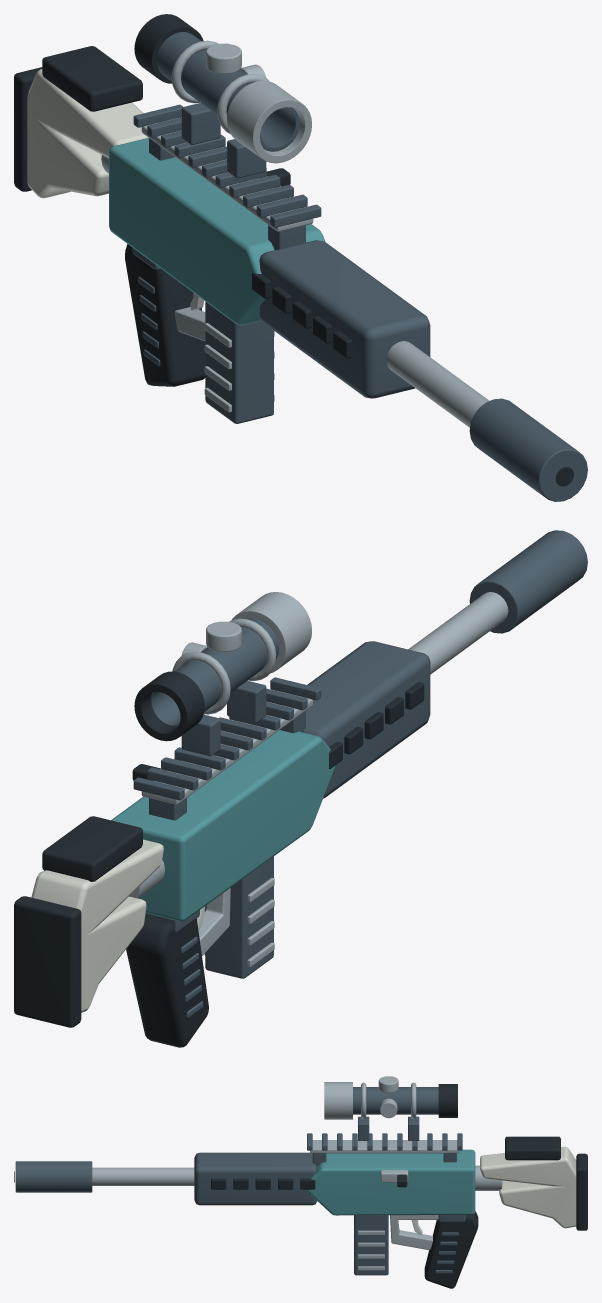
Rendered from weapon_06.glb.
3 renders of one model, top to bottom at view 1: azimuth 30°, elevation 25°; view 2: azimuth 150°, elevation 25°; view 3: azimuth 270°, elevation 25°, orthographic. The views are drawn at different scales.
Visible parts, largest first — view 1: receiver / Cerakote midnight, receiver / Teal armour, receiver / Ceramic, receiver / Elastomer, weapon_06 / Cerakote midnight, weapon_06 / Titanium, pistol_grip / Elastomer, magazine / Cerakote midnight, receiver / Titanium, weapon_06 / Elastomer, magazine / Titanium, pistol_grip / Cerakote midnight; view 2: receiver / Cerakote midnight, receiver / Teal armour, receiver / Elastomer, receiver / Ceramic, pistol_grip / Elastomer, weapon_06 / Cerakote midnight, receiver / Titanium, weapon_06 / Titanium, magazine / Cerakote midnight, weapon_06 / Elastomer, magazine / Titanium, pistol_grip / Cerakote midnight; view 3: receiver / Cerakote midnight, receiver / Teal armour, receiver / Titanium, receiver / Ceramic, receiver / Elastomer, weapon_06 / Cerakote midnight, pistol_grip / Elastomer, weapon_06 / Titanium, magazine / Cerakote midnight, weapon_06 / Elastomer, pistol_grip / Cerakote midnight, magazine / Titanium (+1 smaller).
Boxes of the visible parts, bbox=[...] form: receiver / Cerakote midnight: bbox=[133, 104, 587, 501]; receiver / Teal armour: bbox=[109, 138, 325, 325]; receiver / Ceramic: bbox=[27, 69, 148, 198]; receiver / Elastomer: bbox=[14, 46, 573, 486]; weapon_06 / Cerakote midnight: bbox=[156, 32, 299, 178]; weapon_06 / Titanium: bbox=[171, 40, 311, 163]; pistol_grip / Elastomer: bbox=[125, 244, 205, 386]; magazine / Cerakote midnight: bbox=[205, 301, 273, 423]; receiver / Titanium: bbox=[101, 118, 489, 427]; weapon_06 / Elastomer: bbox=[134, 14, 203, 83]; magazine / Titanium: bbox=[204, 323, 274, 412]; pistol_grip / Cerakote midnight: bbox=[132, 247, 161, 366]; receiver / Cerakote midnight: bbox=[133, 530, 587, 820]; receiver / Teal armour: bbox=[111, 730, 335, 921]; receiver / Elastomer: bbox=[14, 682, 424, 1027]; receiver / Ceramic: bbox=[31, 839, 163, 1012]; pistol_grip / Elastomer: bbox=[126, 916, 208, 1047]; weapon_06 / Cerakote midnight: bbox=[150, 618, 278, 756]; receiver / Titanium: bbox=[129, 592, 508, 955]; weapon_06 / Titanium: bbox=[172, 592, 311, 714]; magazine / Cerakote midnight: bbox=[205, 856, 273, 978]; weapon_06 / Elastomer: bbox=[134, 671, 204, 741]; magazine / Titanium: bbox=[204, 877, 274, 967]; pistol_grip / Cerakote midnight: bbox=[145, 910, 203, 1017]; receiver / Cerakote midnight: bbox=[15, 1133, 462, 1205]; receiver / Teal armour: bbox=[305, 1149, 475, 1215]; receiver / Titanium: bbox=[92, 1140, 502, 1250]; receiver / Ceramic: bbox=[480, 1146, 576, 1228]; receiver / Elastomer: bbox=[14, 1136, 587, 1230]; weapon_06 / Cerakote midnight: bbox=[353, 1087, 438, 1140]; pistol_grip / Elastomer: bbox=[424, 1211, 478, 1288]; weapon_06 / Titanium: bbox=[324, 1076, 416, 1119]; magazine / Cerakote midnight: bbox=[354, 1215, 388, 1275]; weapon_06 / Elastomer: bbox=[438, 1084, 457, 1117]; pistol_grip / Cerakote midnight: bbox=[435, 1215, 465, 1273]; magazine / Titanium: bbox=[358, 1230, 384, 1270].
Size of the model in its own units: 0.1895 by 0.5871 by 1.49.
